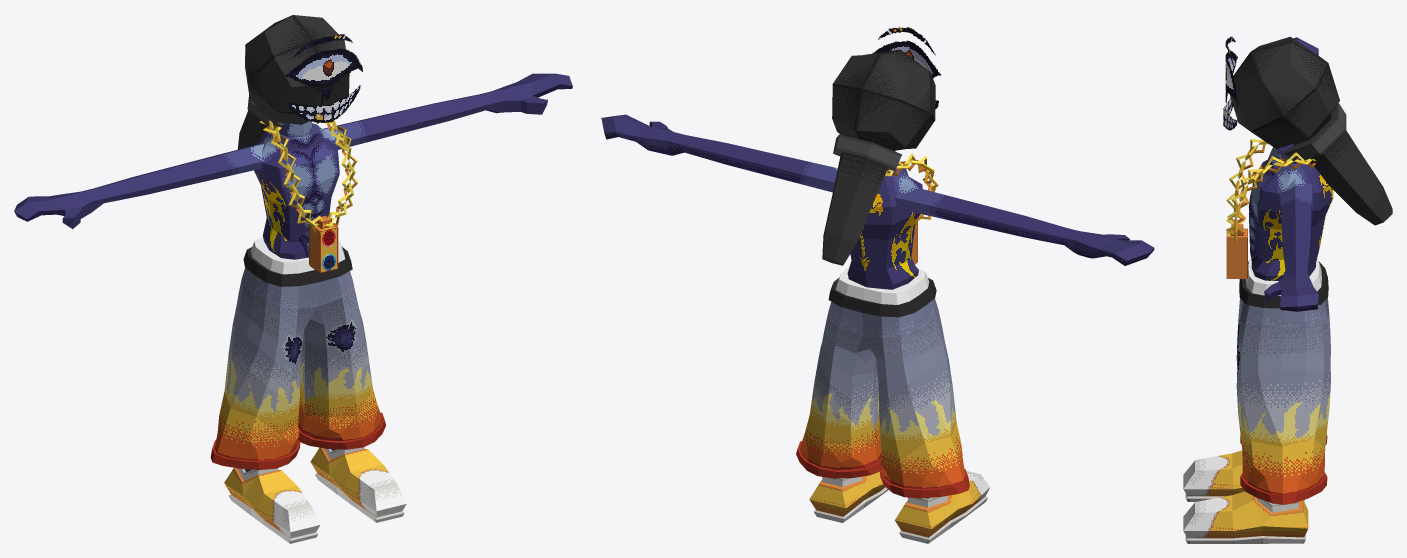
Rendered from Day_Dream.glb.
3 views of the same model, side by side, from view 1: azimuth 30°, elevation 25°; view 2: azimuth 150°, elevation 25°; view 3: azimuth 270°, elevation 25° (orthographic).
Visible parts, largest first — view 1: Calsas, Braço, Pes, Torso, Microfone_UP, Corrente, Eyes, Object, Moth, Microfone_Back; view 2: Calsas, Braço, Microfone_UP, Pes, Torso, Microfone_Back, Eyes, Corrente; view 3: Calsas, Microfone_UP, Pes, Torso, Microfone_Back, Braço, Corrente, Object, Eyes, Moth.
Boxes of the visible parts, left/top/right/bottom form: Calsas: left=210, top=237, right=385, bottom=469; Braço: left=14, top=73, right=572, bottom=228; Pes: left=224, top=447, right=406, bottom=543; Torso: left=254, top=121, right=339, bottom=259; Microfone_UP: left=245, top=15, right=349, bottom=124; Corrente: left=259, top=120, right=357, bottom=233; Eyes: left=285, top=34, right=362, bottom=100; Object: left=309, top=215, right=338, bottom=272; Moth: left=288, top=85, right=360, bottom=122; Microfone_Back: left=237, top=95, right=284, bottom=149; Calsas: left=796, top=267, right=969, bottom=498; Braço: left=601, top=114, right=1154, bottom=265; Microfone_UP: left=832, top=49, right=935, bottom=150; Pes: left=809, top=471, right=989, bottom=543; Torso: left=847, top=150, right=922, bottom=289; Microfone_Back: left=822, top=134, right=901, bottom=265; Eyes: left=872, top=27, right=941, bottom=78; Corrente: left=884, top=153, right=938, bottom=226; Calsas: left=1236, top=258, right=1330, bottom=504; Microfone_UP: left=1229, top=36, right=1339, bottom=148; Pes: left=1183, top=450, right=1308, bottom=543; Torso: left=1248, top=143, right=1333, bottom=280; Microfone_Back: left=1284, top=103, right=1392, bottom=225; Braço: left=1264, top=37, right=1318, bottom=311; Corrente: left=1226, top=139, right=1316, bottom=242; Object: left=1226, top=224, right=1247, bottom=278; Eyes: left=1225, top=36, right=1237, bottom=108; Moth: left=1223, top=98, right=1237, bottom=130.
Size of the model in its own units: 21.16 by 17.76 by 6.94.
Materials: 5 (5 with a texture image).
